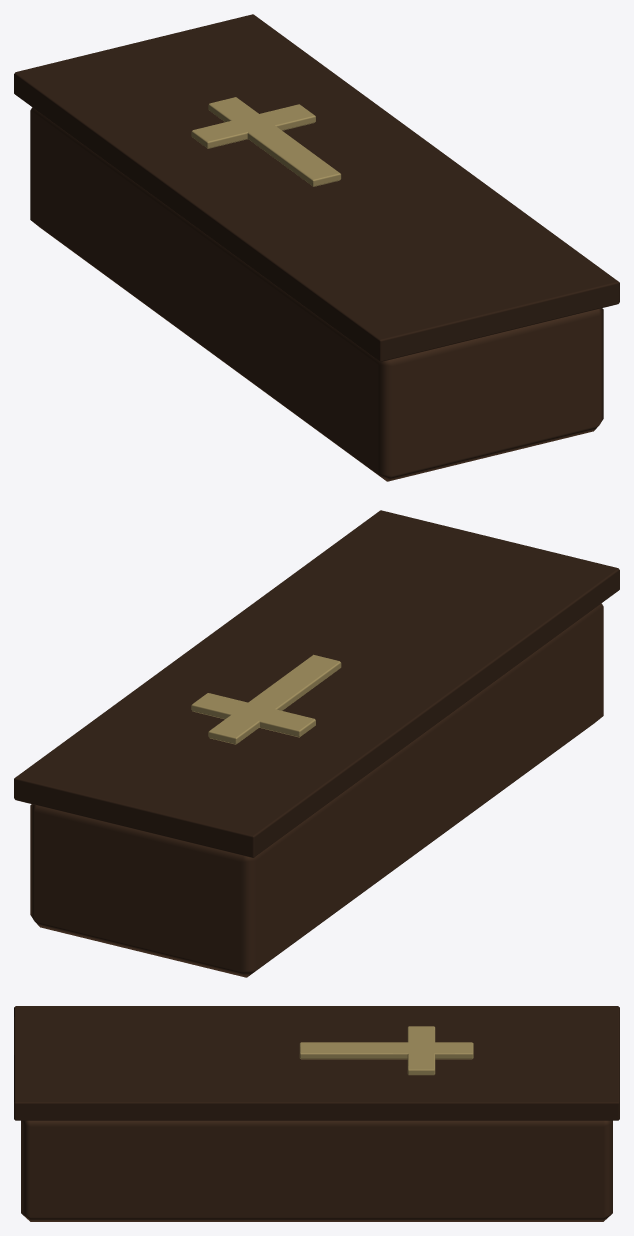
The model's file is coffin.52af77c3.glb.
3 views of the same model, one above another, from view 1: azimuth 30°, elevation 25°; view 2: azimuth 150°, elevation 25°; view 3: azimuth 270°, elevation 25° (orthographic). The views are drawn at different scales.
Parts seen in each view (by area): view 1: body; view 2: body; view 3: body.
Part boxes in pixels (x1,y1,x2,y2): body: (14, 14, 619, 481); body: (14, 510, 619, 977); body: (14, 1006, 619, 1221).
Bounding box in the file's own units: 0.66 × 0.42 × 1.74.
